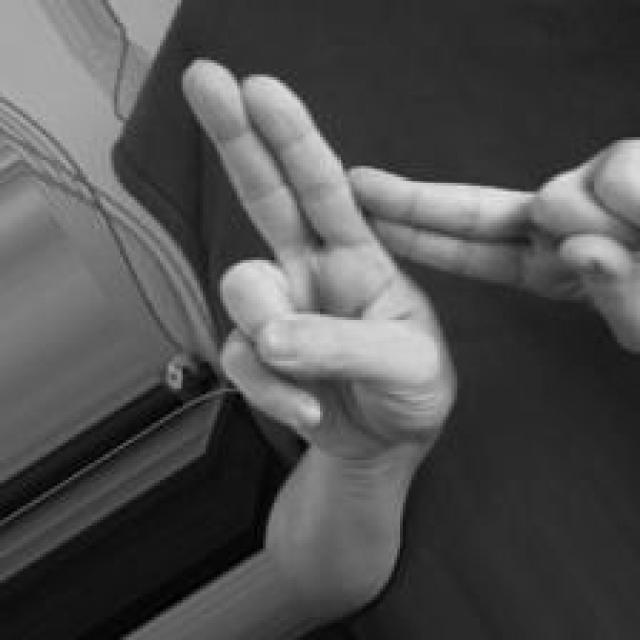K: (177, 57, 640, 463)
